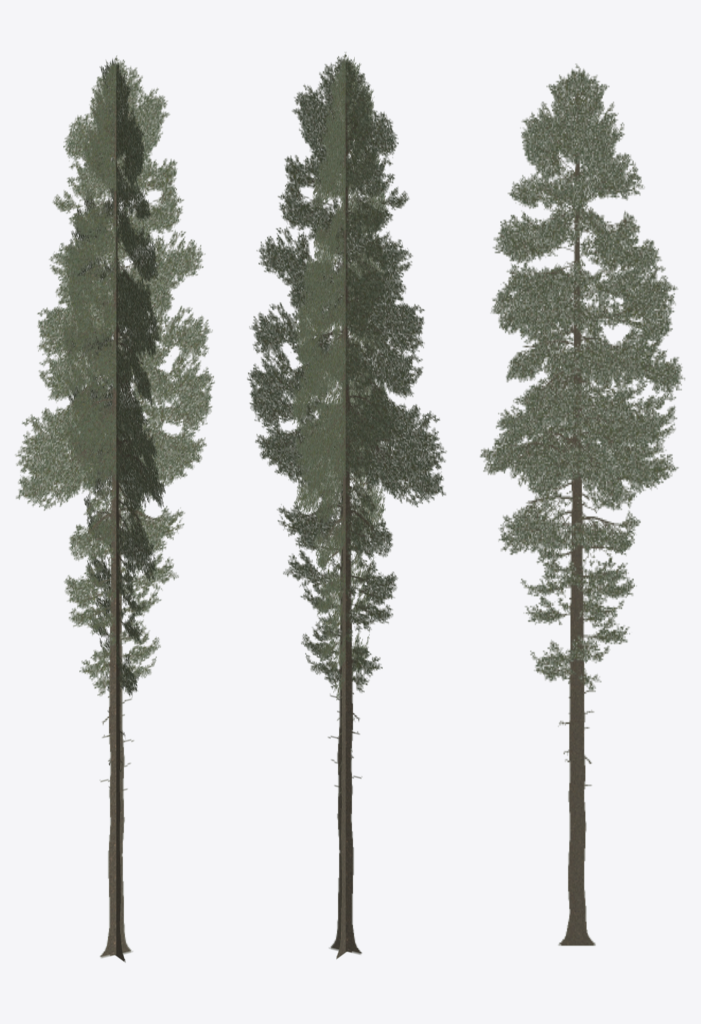
File: PseudotsugaMenziesii.glb
3 views of the same model, side by side, from view 1: azimuth 30°, elevation 25°; view 2: azimuth 150°, elevation 25°; view 3: azimuth 270°, elevation 25° (orthographic). The views are drawn at different scales.
Visible parts, largest first — view 1: mesh__mat_billboard_3; view 2: mesh__mat_billboard_3; view 3: mesh__mat_billboard_3.
Boxes of the visible parts, x1=… form: mesh__mat_billboard_3: x1=15, y1=55, x2=214, y2=962; mesh__mat_billboard_3: x1=247, y1=52, x2=446, y2=959; mesh__mat_billboard_3: x1=480, y1=64, x2=684, y2=945.
Size of the model in its own units: 15.45 by 66.75 by 14.16.
1 material, 1 textured.
